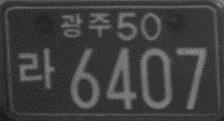0: (139, 46, 172, 111), (140, 11, 162, 42)
4: (104, 47, 137, 110)
5: (115, 11, 138, 42)
6: (68, 46, 100, 109)
7: (175, 46, 208, 112)
광주_O: (59, 11, 112, 39)
라: (17, 46, 55, 90)
